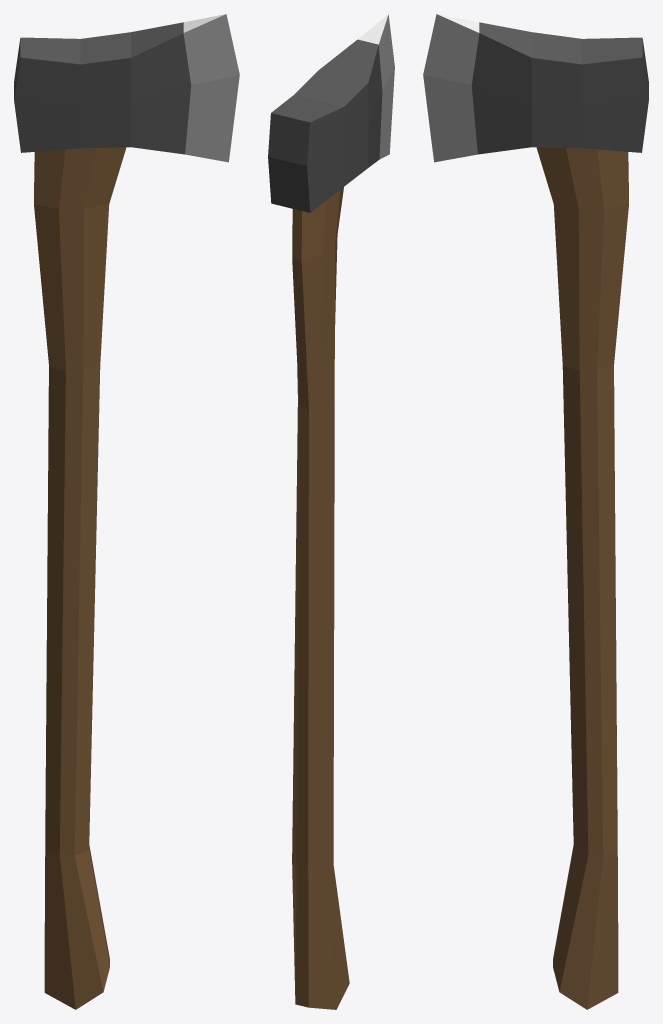
Rendered from axe_6.fbx.
3 renders of one model, left to right at view 1: azimuth 90°, elevation 25°; view 2: azimuth 150°, elevation 25°; view 3: azimuth 270°, elevation 25°, orthographic. The views are drawn at different scales.
Visible parts, largest first — view 1: axe_6; view 2: axe_6; view 3: axe_6.
Part boxes in pixels (x1,y1,x2,y2): axe_6: [14, 14, 239, 1009]; axe_6: [268, 14, 394, 1009]; axe_6: [423, 14, 648, 1009].
Size of the model in its own units: 9.42 by 168 by 34.9.
1 material, 1 textured.
